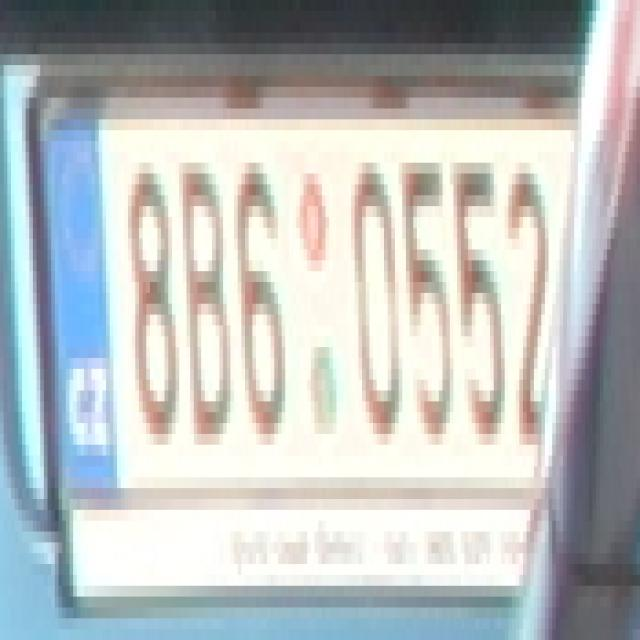0: (340, 141, 402, 445)
2: (504, 162, 548, 444)
5: (395, 152, 450, 445), (454, 152, 508, 445)
6: (230, 152, 282, 434)
8: (124, 173, 176, 444)
B: (180, 141, 230, 445)
